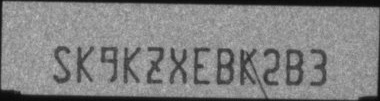2: (262, 46, 280, 86)
3: (309, 46, 327, 87)
9: (99, 44, 118, 82)
B: (285, 47, 304, 87), (215, 45, 233, 85)
E: (192, 44, 210, 85)
K: (238, 45, 257, 85), (75, 43, 93, 83), (121, 45, 139, 84)
S: (51, 44, 73, 84)
X: (169, 46, 187, 82)
Z: (146, 44, 164, 85)
